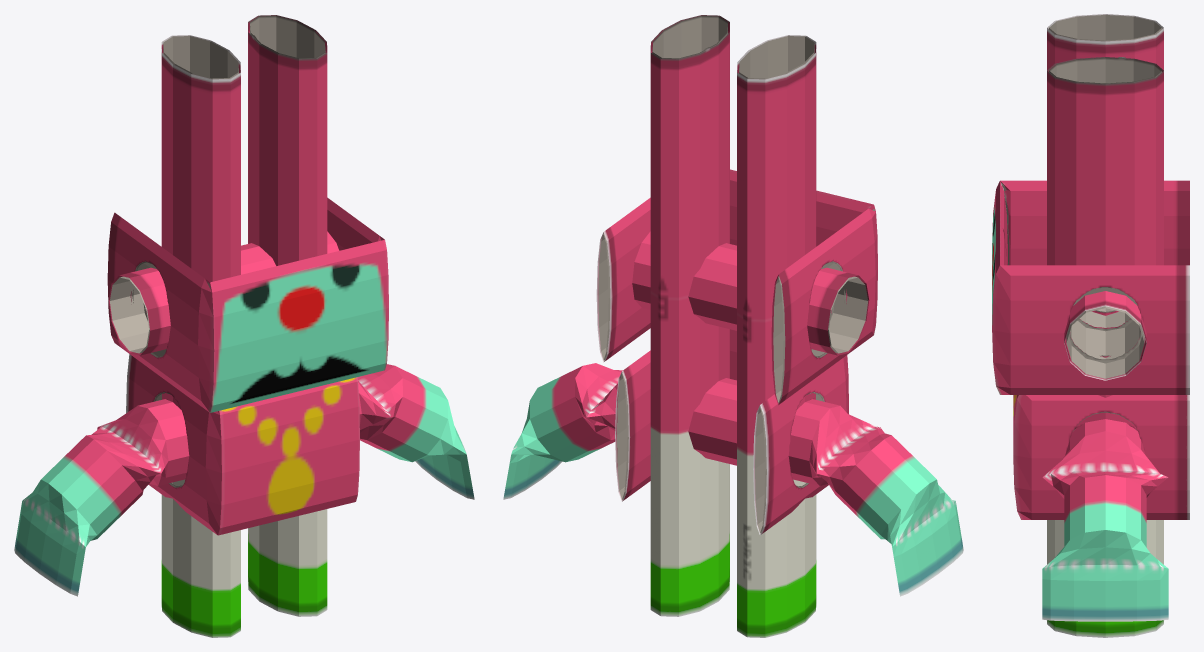
Rendered from lyric.glb.
3 views of the same model, side by side, from view 1: azimuth 30°, elevation 25°; view 2: azimuth 150°, elevation 25°; view 3: azimuth 270°, elevation 25° (orthographic).
Visible parts, largest first — view 1: P1 リリック_頭_顔 [短冊1-1], P7 リリック_頭・脚_右側の頭上の筒・右脚 [短冊1-3], P10 リリック_頭・脚_左側の頭上の筒・左脚 [短冊1-4], P47 リリック_腕・胴体_左右の腕と胸・脚の接続軸 [短冊4-2], P4 リリック_胴体_胸・ネックレス [短冊1-2], P46 リリック_頭_顔と左右の脚をつなぐ軸 [短冊4-1]; view 2: P10 リリック_頭・脚_左側の頭上の筒・左脚 [短冊1-4], P7 リリック_頭・脚_右側の頭上の筒・右脚 [短冊1-3], P47 リリック_腕・胴体_左右の腕と胸・脚の接続軸 [短冊4-2], P1 リリック_頭_顔 [短冊1-1], P4 リリック_胴体_胸・ネックレス [短冊1-2], P46 リリック_頭_顔と左右の脚をつなぐ軸 [短冊4-1]; view 3: P10 リリック_頭・脚_左側の頭上の筒・左脚 [短冊1-4], P1 リリック_頭_顔 [短冊1-1], P47 リリック_腕・胴体_左右の腕と胸・脚の接続軸 [短冊4-2], P4 リリック_胴体_胸・ネックレス [短冊1-2], P46 リリック_頭_顔と左右の脚をつなぐ軸 [短冊4-1], P7 リリック_頭・脚_右側の頭上の筒・右脚 [短冊1-3].
Boxes of the visible parts, x1=… form: P1 リリック_頭_顔 [短冊1-1]: x1=107, y1=197, x2=388, y2=412; P7 リリック_頭・脚_右側の頭上の筒・右脚 [短冊1-3]: x1=161, y1=35, x2=240, y2=637; P10 リリック_頭・脚_左側の頭上の筒・左脚 [短冊1-4]: x1=248, y1=15, x2=327, y2=616; P47 リリック_腕・胴体_左右の腕と胸・脚の接続軸 [短冊4-2]: x1=14, y1=364, x2=474, y2=596; P4 リリック_胴体_胸・ネックレス [短冊1-2]: x1=126, y1=354, x2=359, y2=535; P46 リリック_頭_顔と左右の脚をつなぐ軸 [短冊4-1]: x1=108, y1=231, x2=339, y2=355; P10 リリック_頭・脚_左側の頭上の筒・左脚 [短冊1-4]: x1=650, y1=15, x2=729, y2=616; P7 リリック_頭・脚_右側の頭上の筒・右脚 [短冊1-3]: x1=737, y1=35, x2=816, y2=637; P47 リリック_腕・胴体_左右の腕と胸・脚の接続軸 [短冊4-2]: x1=503, y1=363, x2=963, y2=596; P1 リリック_頭_顔 [短冊1-1]: x1=596, y1=169, x2=877, y2=404; P4 リリック_胴体_胸・ネックレス [短冊1-2]: x1=615, y1=329, x2=848, y2=535; P46 リリック_頭_顔と左右の脚をつなぐ軸 [短冊4-1]: x1=632, y1=231, x2=869, y2=355; P10 リリック_頭・脚_左側の頭上の筒・左脚 [短冊1-4]: x1=1047, y1=57, x2=1163, y2=637; P1 リリック_頭_顔 [短冊1-1]: x1=992, y1=180, x2=1189, y2=394; P47 リリック_腕・胴体_左右の腕と胸・脚の接続軸 [短冊4-2]: x1=1042, y1=419, x2=1168, y2=621; P4 リリック_胴体_胸・ネックレス [短冊1-2]: x1=1013, y1=395, x2=1189, y2=519; P46 リリック_頭_顔と左右の脚をつなぐ軸 [短冊4-1]: x1=1064, y1=291, x2=1146, y2=380; P7 リリック_頭・脚_右側の頭上の筒・右脚 [短冊1-3]: x1=1047, y1=14, x2=1163, y2=315.
Bounding box in the file's own units: 0.0446 × 0.058 × 0.0188.
12 materials, 12 textured.
